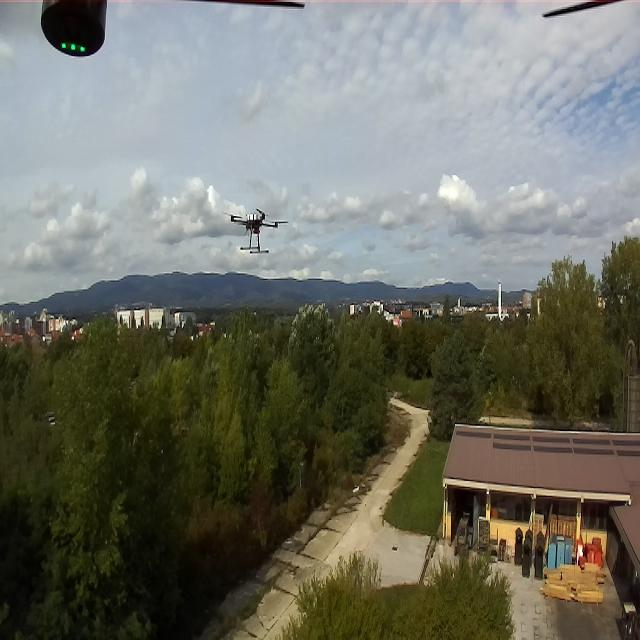UAV: (220, 205, 290, 257)
